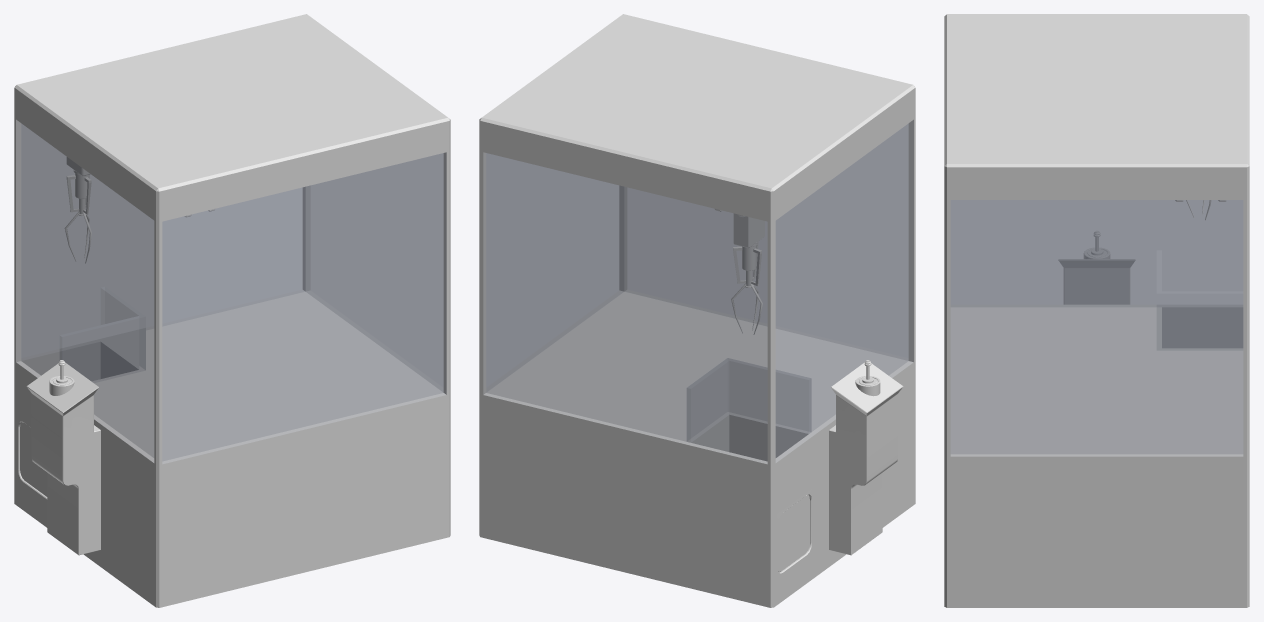
The model's file is MaquinaPeluches.fbx.
The picture shows the model from 3 angles, left to right: view 1: azimuth 30°, elevation 25°; view 2: azimuth 150°, elevation 25°; view 3: azimuth 270°, elevation 25°; orthographic projection. The views are drawn at different scales.
Parts seen in each view (by area): view 1: Maquina, Cristalera_1, Cristalera_2, Cristalera_0, Cristalera_3, Soporte, Cristalera_4, Trampilla, Garra; view 2: Maquina, Cristalera_2, Cristalera_1, Cristalera_0, Cristalera_3, Soporte, Cristalera_4, Trampilla, SoporteGarra, Garra; view 3: Maquina, Cristalera_3, Cristalera_0, Cristalera_4, Soporte.
Boxes of the visible parts, box(x1,y1,x2,y2) form: Maquina: box(14, 14, 450, 607); Cristalera_1: box(162, 153, 446, 463); Cristalera_2: box(21, 124, 302, 357); Cristalera_0: box(16, 120, 154, 462); Cristalera_3: box(310, 153, 443, 387); Soporte: box(26, 362, 100, 555); Cristalera_4: box(60, 287, 145, 381); Trampilla: box(20, 422, 47, 496); Garra: box(66, 170, 91, 215); Maquina: box(479, 14, 915, 607); Cristalera_2: box(483, 153, 767, 463); Cristalera_1: box(627, 124, 908, 357); Cristalera_0: box(775, 120, 913, 462); Cristalera_3: box(486, 153, 619, 387); Soporte: box(829, 362, 903, 555); Cristalera_4: box(687, 358, 811, 441); Trampilla: box(777, 495, 810, 572); SoporteGarra: box(733, 213, 764, 247); Garra: box(733, 241, 761, 287); Maquina: box(944, 14, 1249, 607); Cristalera_3: box(950, 200, 1243, 456); Cristalera_0: box(951, 200, 1242, 304); Cristalera_4: box(1157, 250, 1242, 348); Soporte: box(1058, 259, 1135, 304).
Bounding box in the file's own units: 218 × 261 × 163.
